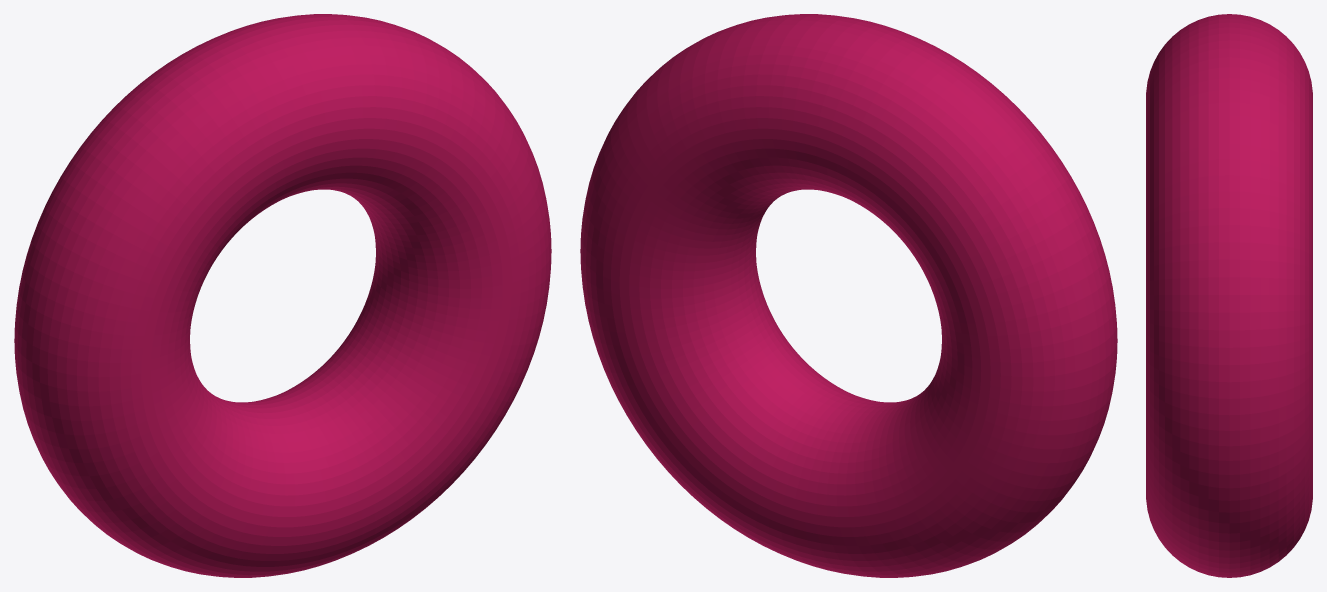
3 renders of one model, left to right at view 1: azimuth 30°, elevation 25°; view 2: azimuth 150°, elevation 25°; view 3: azimuth 270°, elevation 25°, orthographic. The views are drawn at different scales.
Visible parts, largest first — view 1: world; view 2: world; view 3: world.
Part boxes in pixels (x1=…): world: x1=14, y1=14, x2=551, y2=577; world: x1=580, y1=14, x2=1117, y2=577; world: x1=1146, y1=14, x2=1312, y2=577.
Size of the model in its own units: 27.47 by 27.47 by 8.12.
